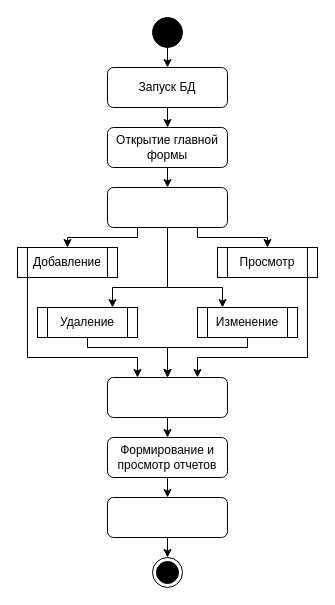
The diagram is 335 pixels wide and 605 high, and some of its shapes have lost their labels. The centre of each missing label's shape, as x and y in pixels:
Завершение работы с сесетемой: (167,517)
Открытие раздела: (167,207)
Сохранение: (167,397)
